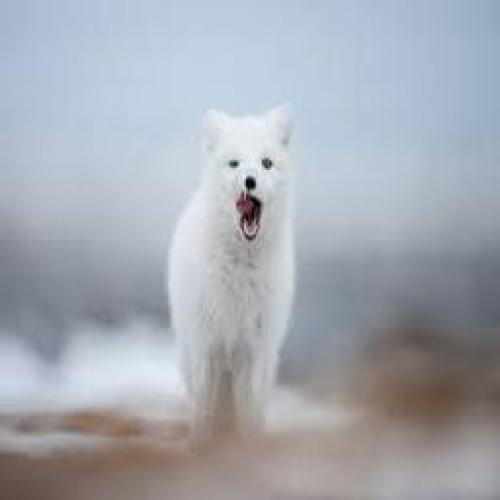arctic_fox-endangered: (166, 103, 298, 445)
